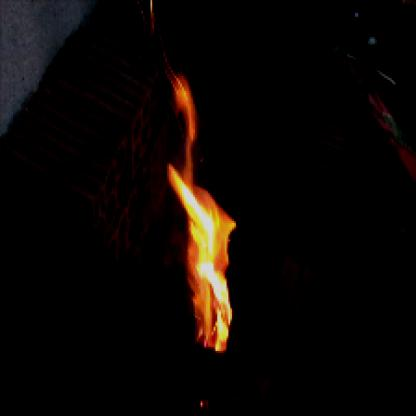Fire: (164, 69, 242, 354)
